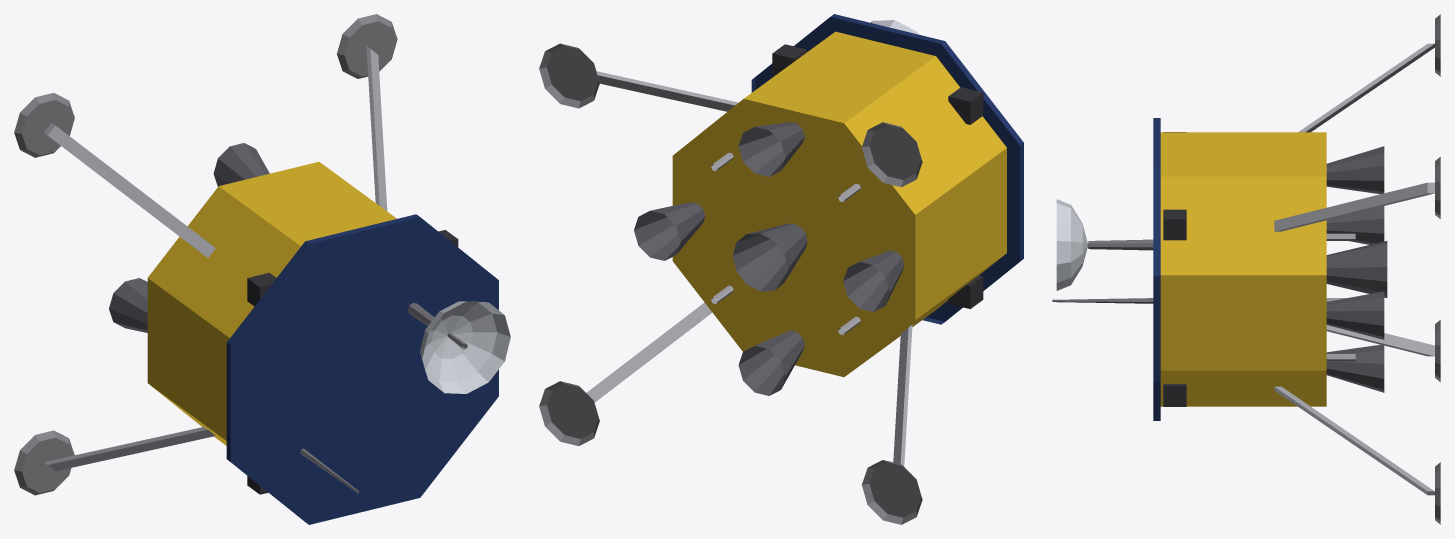
The model's file is lander_body.obj.
3 renders of one model, left to right at view 1: azimuth 30°, elevation 25°; view 2: azimuth 150°, elevation 25°; view 3: azimuth 270°, elevation 25°, orthographic. The views are drawn at different scales.
Size of the model in its own units: 2.77 by 2.75 by 2.69.
